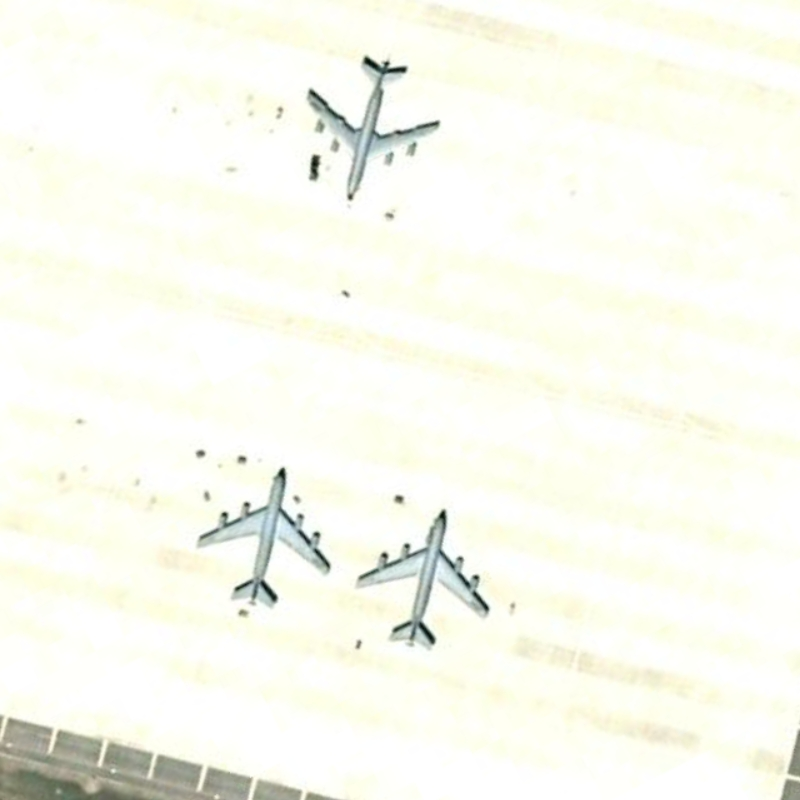A14: (192, 456, 337, 614), (299, 52, 443, 205), (354, 505, 495, 651)
